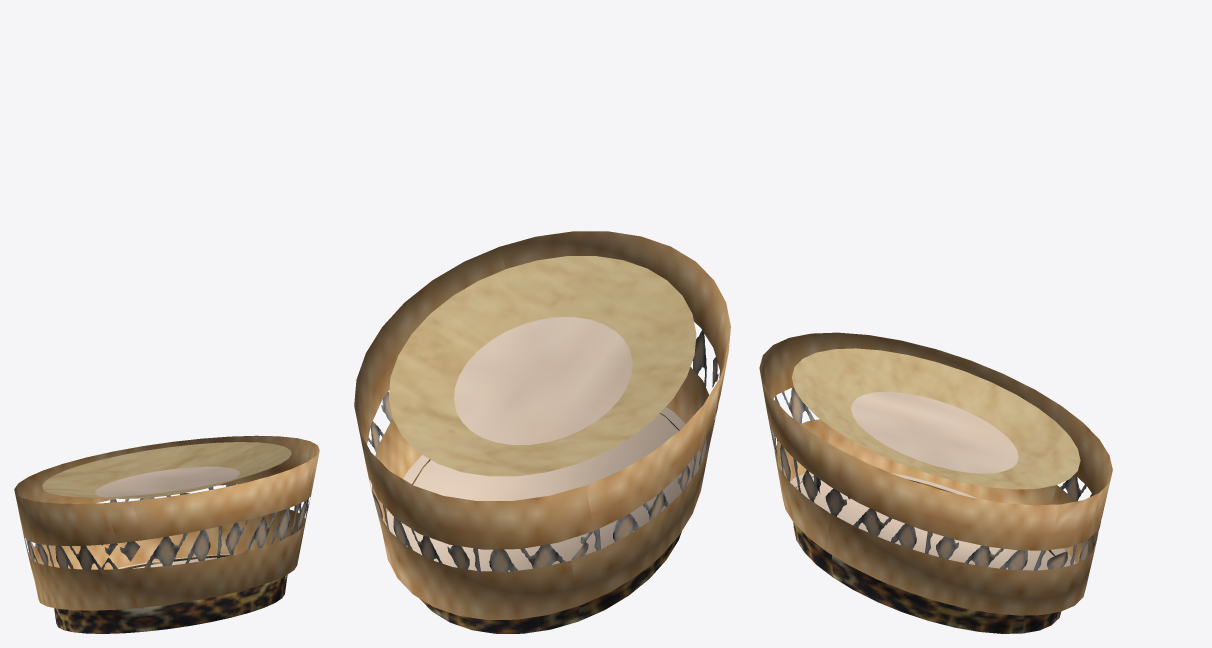
The model's file is maya_nobre_turb_5.dae.
3 renders of one model, left to right at view 1: azimuth 30°, elevation 25°; view 2: azimuth 150°, elevation 25°; view 3: azimuth 270°, elevation 25°, orthographic. The views are drawn at different scales.
Visible parts, largest first — view 1: nobre_5; view 2: nobre_5; view 3: nobre_5.
Boxes of the visible parts, x1,y1,x2,y2 form: nobre_5: (14, 435, 319, 633); nobre_5: (354, 231, 730, 633); nobre_5: (759, 332, 1112, 633).
Bounding box in the file's own units: 0.655 × 0.8686 × 1.29.
